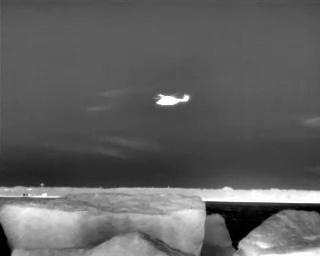HELICOPTER: (150, 87, 196, 112)
